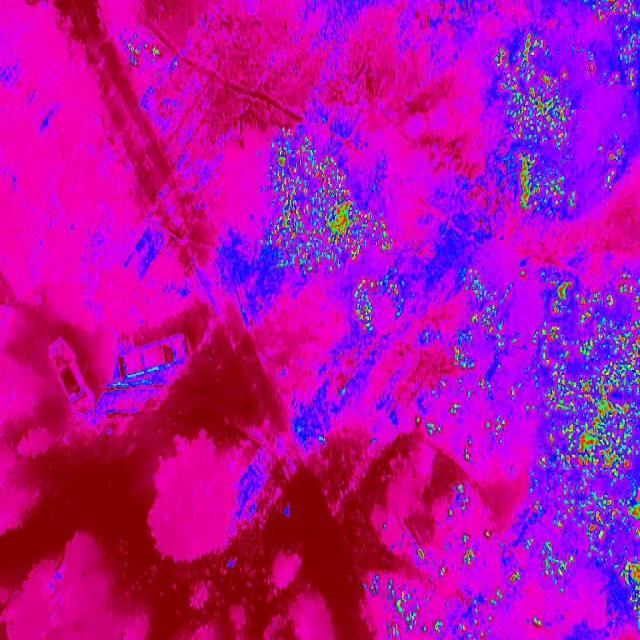fire: (533, 262, 640, 598), (260, 125, 398, 274), (487, 34, 583, 221), (448, 276, 526, 414), (388, 579, 510, 640), (583, 0, 640, 96), (349, 262, 410, 330), (456, 529, 483, 565), (486, 413, 509, 452), (449, 485, 470, 516)
